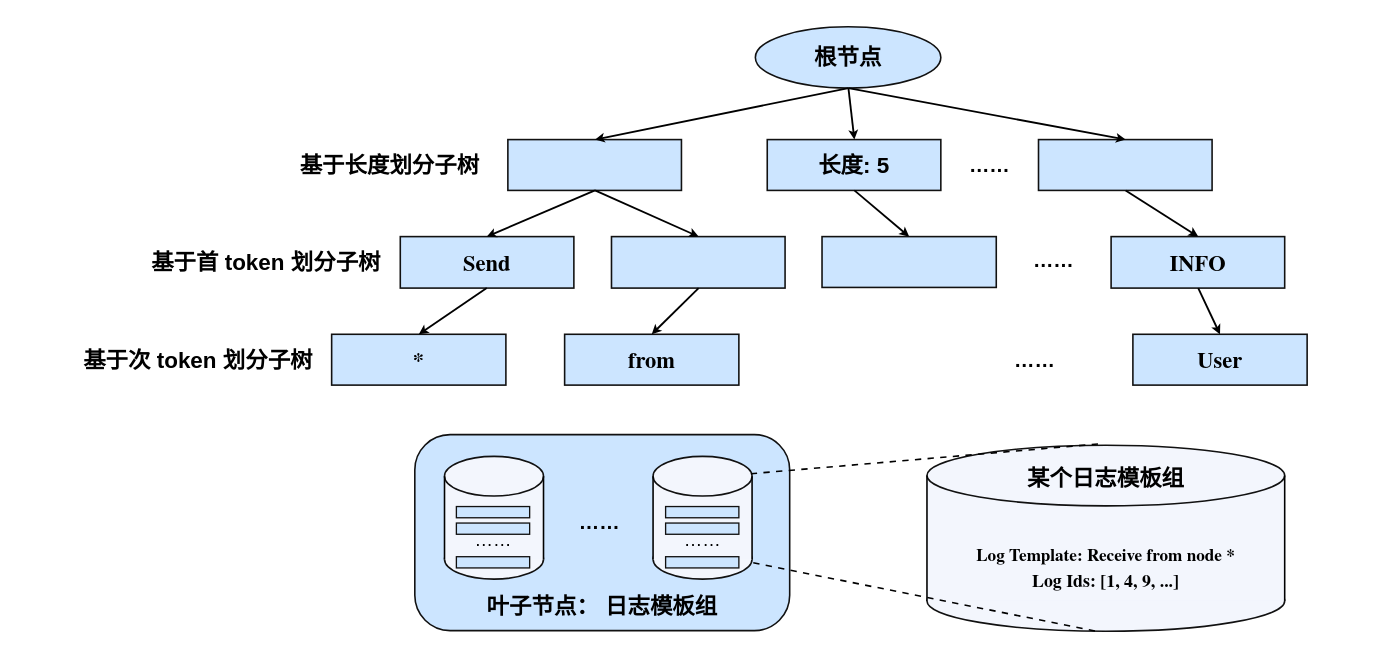
The diagram is 1397 pixels wide and 659 high, and some of its shapes have lost their labels. The box of each missing label's shape, as (x1, y1, x2, y2) in pixels:
Receive: (610, 235, 786, 289)
Warning: (821, 235, 997, 288)
长度: 10: (1037, 138, 1213, 191)
长度: 4: (507, 138, 682, 191)
